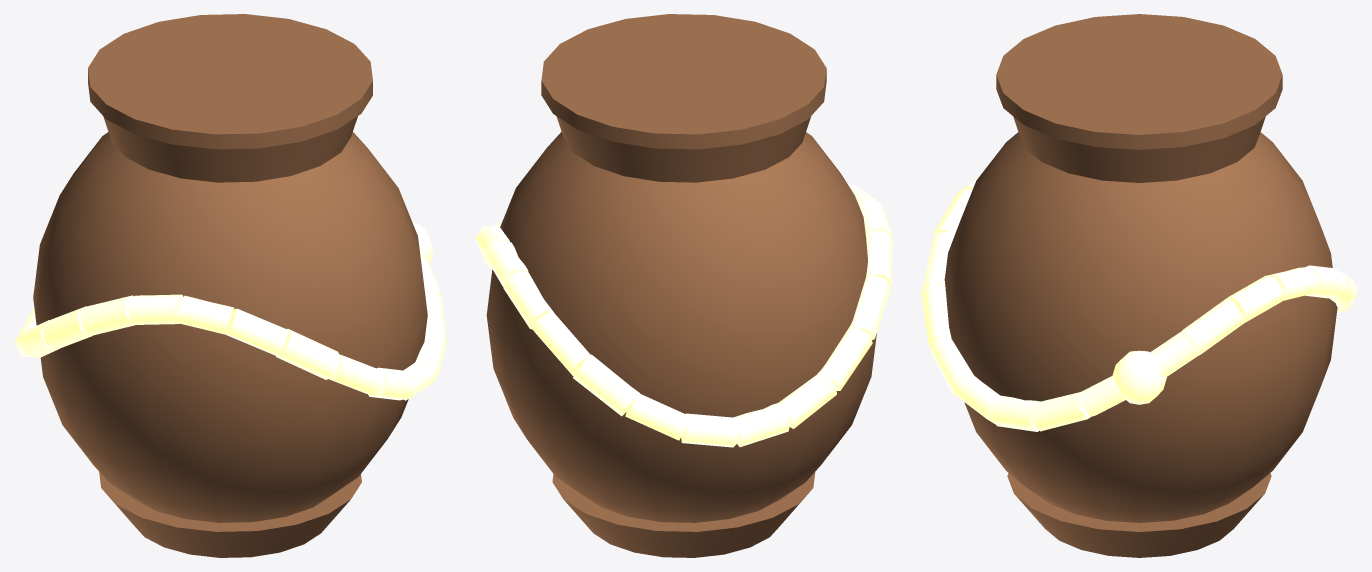
The model's file is SM_DragonJar.fbx.
The picture shows the model from 3 angles, left to right: view 1: azimuth 30°, elevation 25°; view 2: azimuth 150°, elevation 25°; view 3: azimuth 270°, elevation 25°; orthographic projection.
Visible parts, largest first — view 1: SM_DragonJar; view 2: SM_DragonJar; view 3: SM_DragonJar.
Boxes of the visible parts, x1,y1,x2,y2 form: SM_DragonJar: (14,14,446,557); SM_DragonJar: (475,14,892,557); SM_DragonJar: (921,14,1357,557).
Bounding box in the file's own units: 0.8132 × 0.885 × 0.7926.
